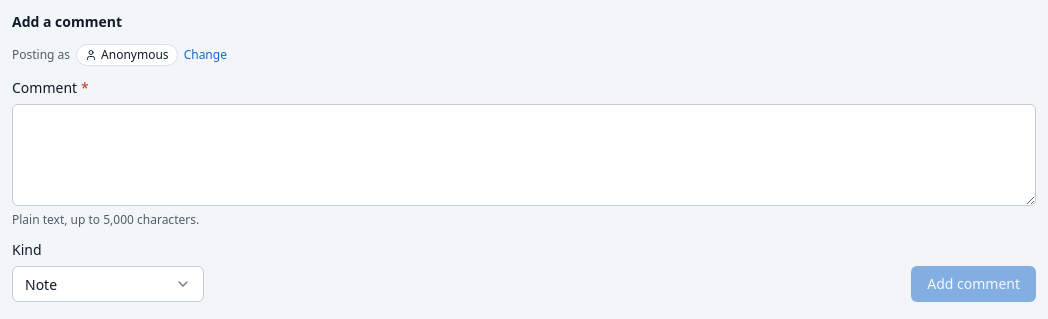
Scenario: CommentComposer › disables submit until the body has content
Expected: the button "Add comment" is disabled, [911,266,1036,302]
Type "x" into the text box labelled "Comment*" at (524, 155), box [12,104,1036,206]
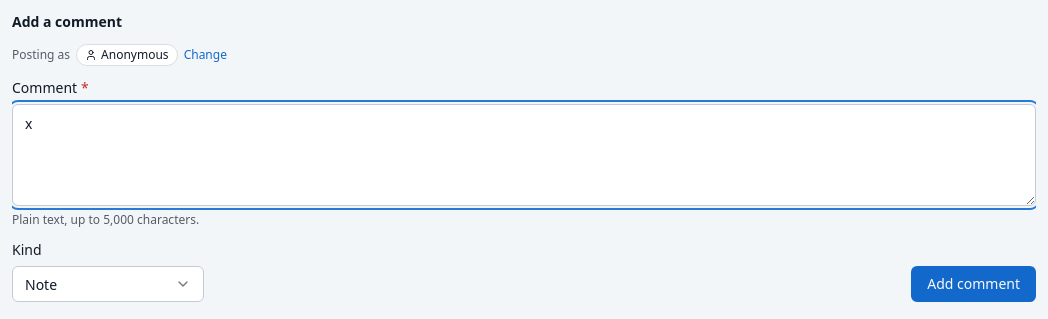
Now the button "Add comment" is enabled, box [911,266,1036,302]
